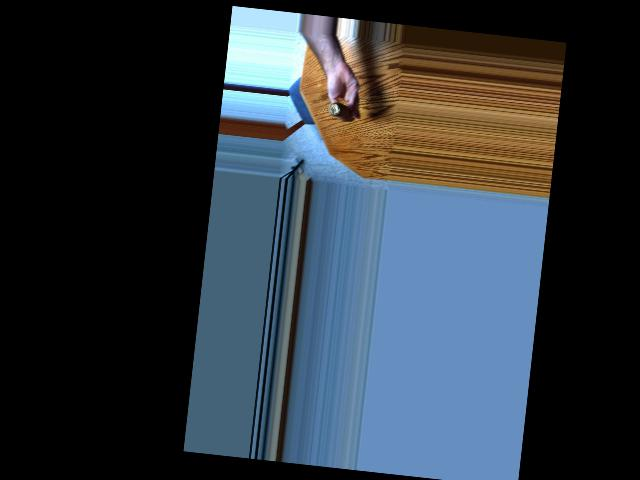sweet_potato: (323, 96, 357, 123)
